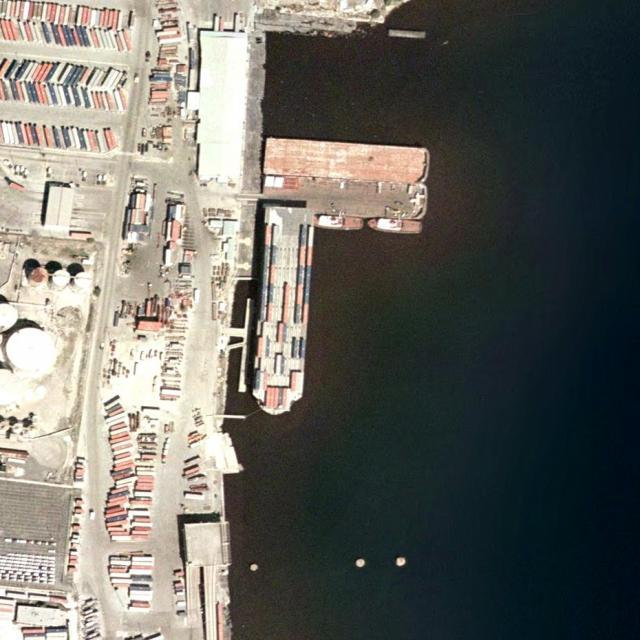Container Ship: (249, 204, 317, 418), (262, 137, 431, 185)
Dock: (237, 299, 253, 396)
Other Ship: (367, 219, 423, 234), (313, 216, 364, 231)
